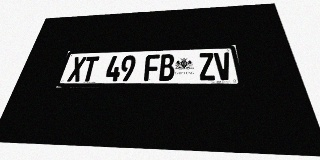4: (105, 56, 123, 81)
9: (119, 55, 136, 81)
B: (159, 54, 174, 81)
F: (144, 54, 160, 81)
T: (80, 56, 99, 82)
V: (214, 52, 233, 80)
X: (67, 57, 87, 82)
Z: (198, 53, 216, 80)
